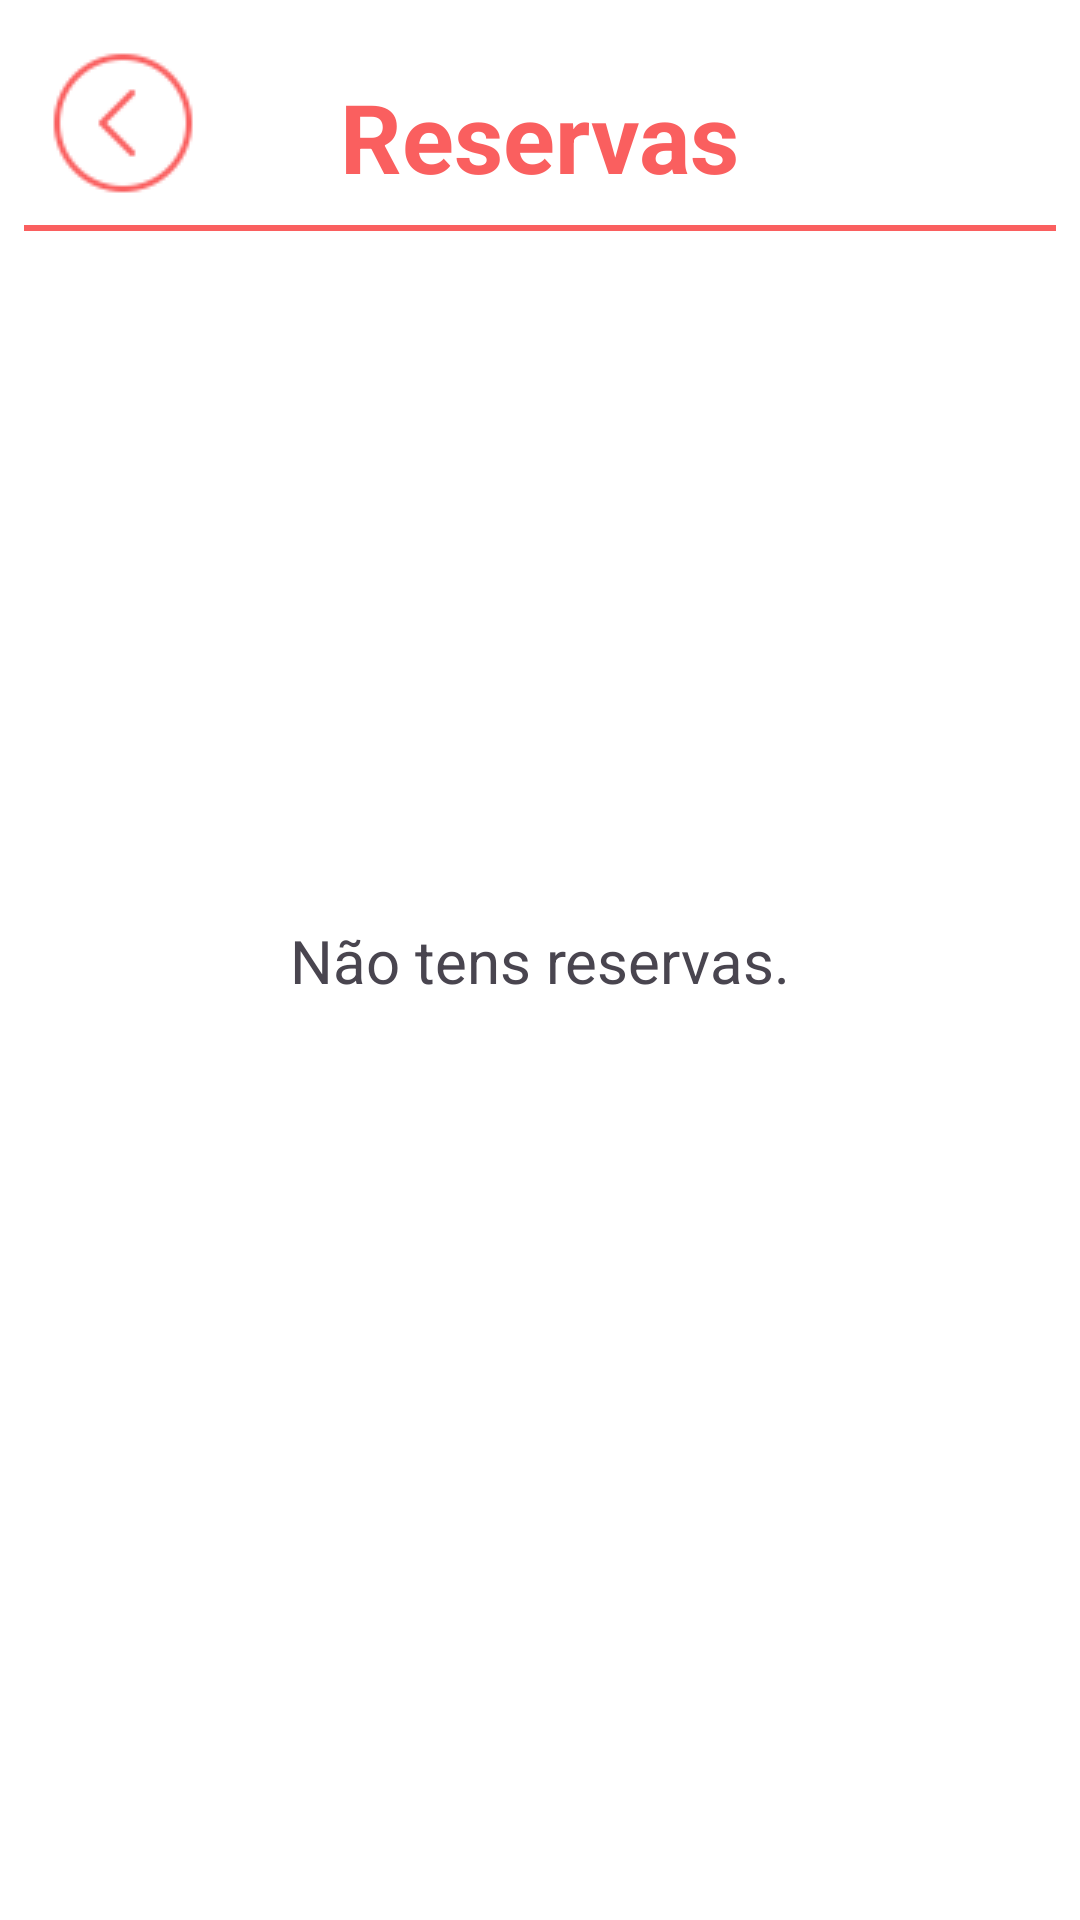

Icons on this 1080px x 1920px Android screen, each with its box as (x1, y1, x2, y2):
back: (53, 53, 193, 193)
